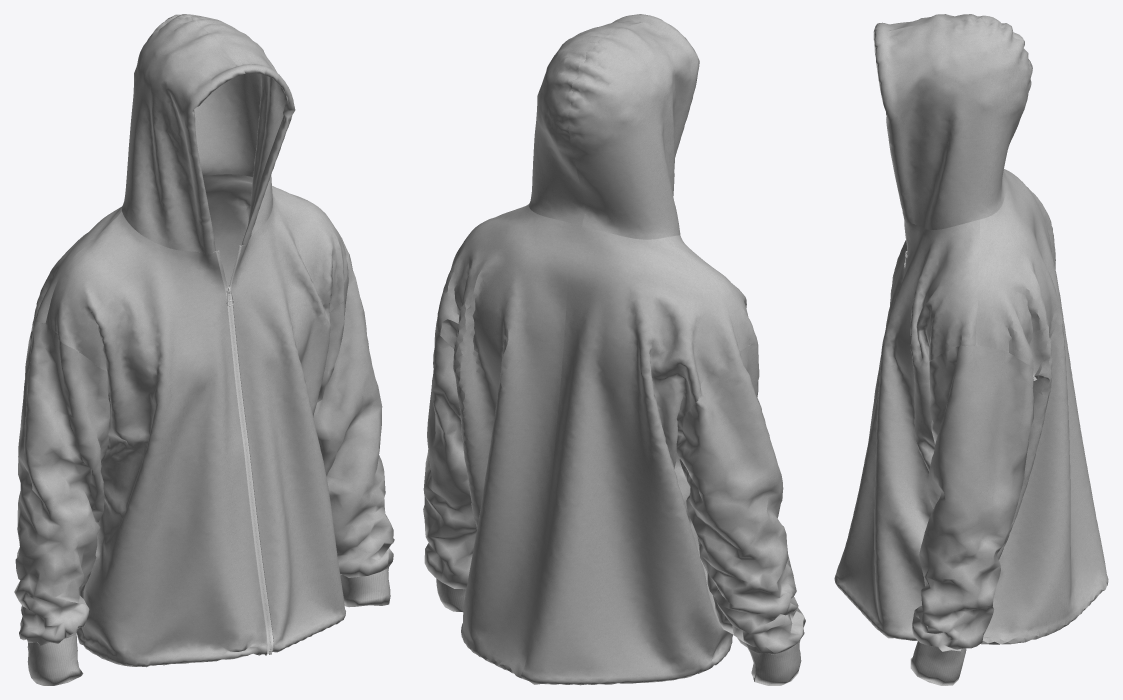
File: zipperhoodief.glb
3 views of the same model, side by side, from view 1: azimuth 30°, elevation 25°; view 2: azimuth 150°, elevation 25°; view 3: azimuth 270°, elevation 25° (orthographic). The views are drawn at different scales.
Visible parts, largest first — view 1: Cloth_1; view 2: Cloth_1; view 3: Cloth_1.
Boxes of the visible parts, left/top/right/bottom form: Cloth_1: left=14, top=14, right=394, bottom=685; Cloth_1: left=423, top=14, right=805, bottom=685; Cloth_1: left=834, top=14, right=1108, bottom=685.
Size of the model in its own units: 0.63 by 1 by 0.42.
10 materials, 10 textured.
